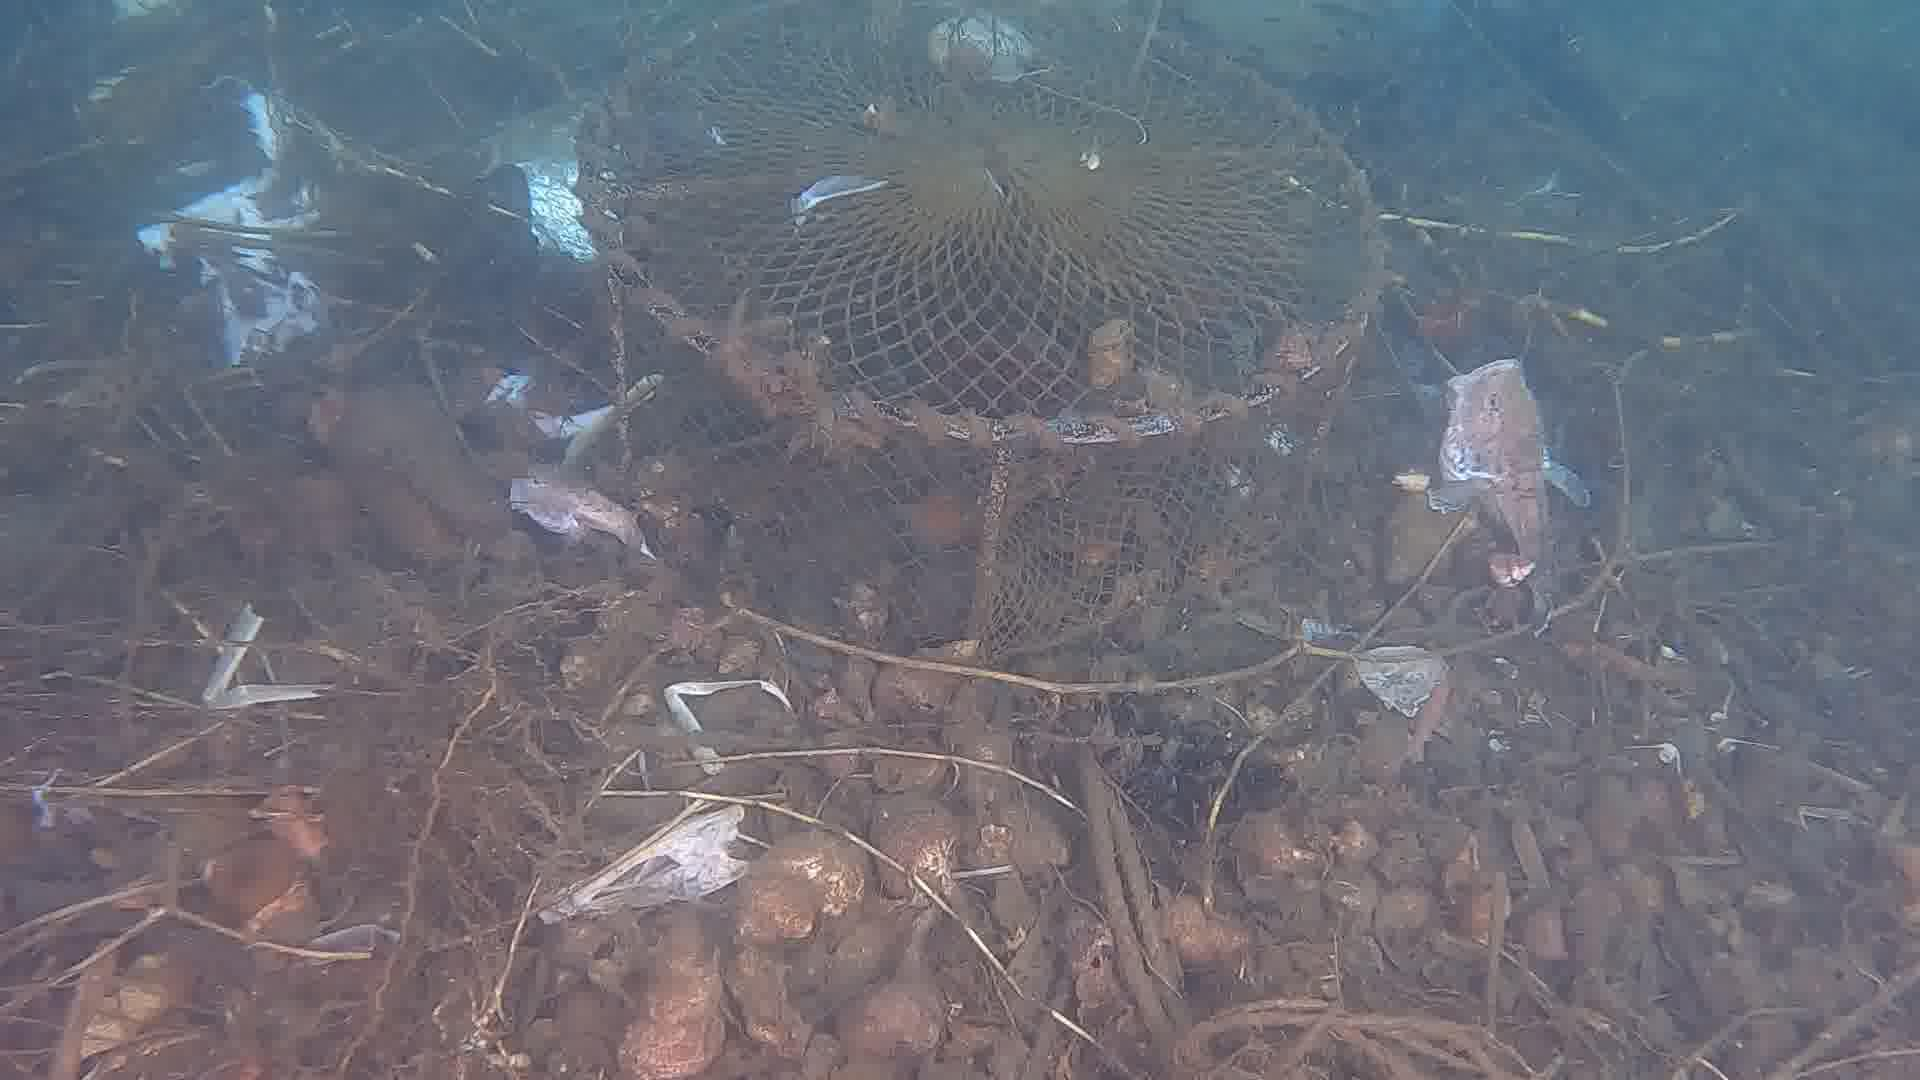circular fish trap: (574, 0, 1394, 658)
